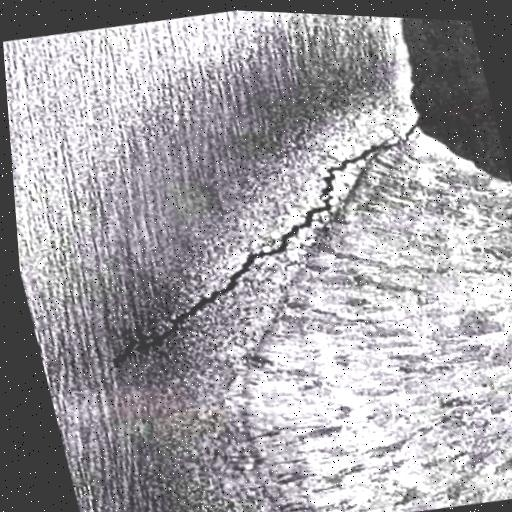crack: (50, 96, 489, 398)
